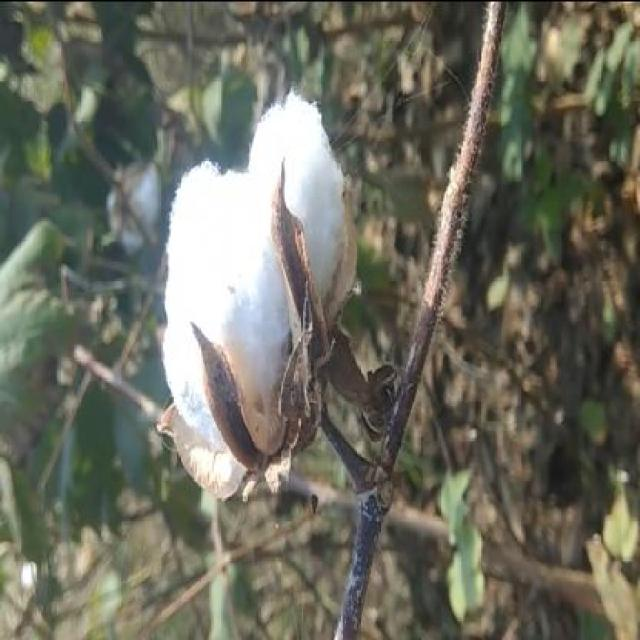cotton_ready: (141, 88, 476, 514)
